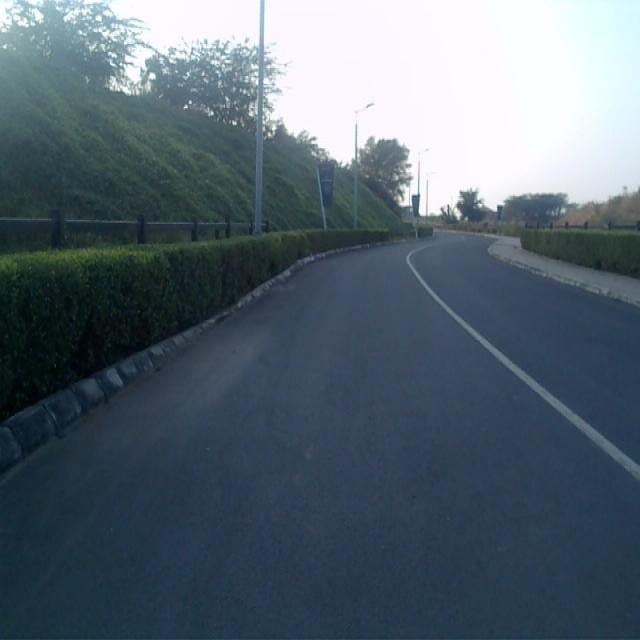lane: (0, 244, 640, 640)
